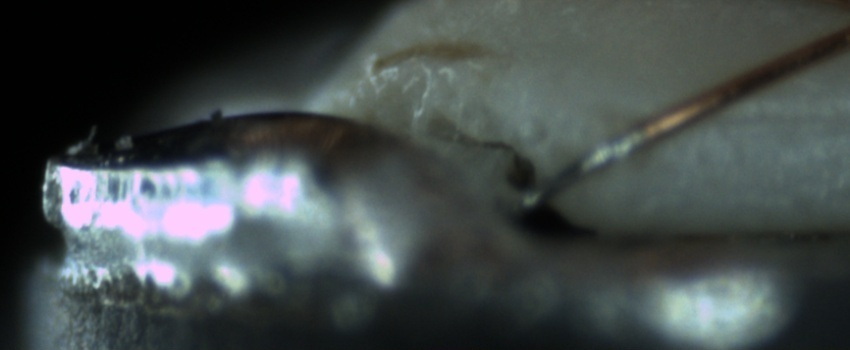DL: (696, 92, 849, 156)
TS: (525, 127, 649, 208)
TTCW: (519, 108, 681, 212)
